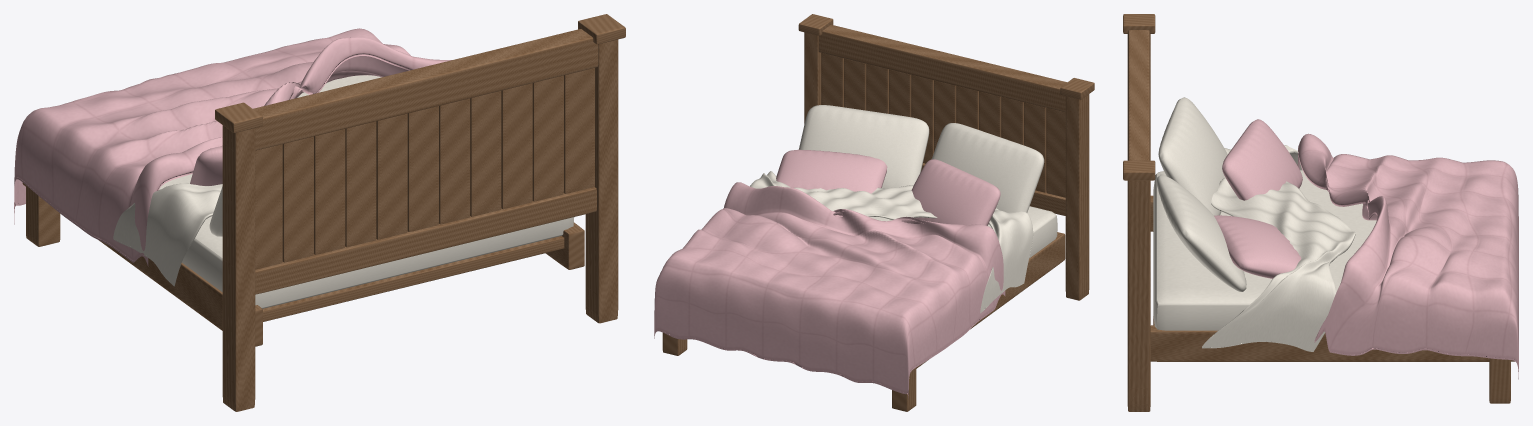
File: Bed_Messy.glb
3 renders of one model, left to right at view 1: azimuth 30°, elevation 25°; view 2: azimuth 150°, elevation 25°; view 3: azimuth 270°, elevation 25°, orthographic. The views are drawn at different scales.
Parts seen in each view (by area): view 1: Pink_Quilt, Head_Top_Rail, Head_Post_-1, Head_Lower_Rail, Head_Post_1, Mattress_and_Fitted_Sheet, Ivory_Folded_Blanket, Mattress_Support, Head_Plank_03, Head_Plank_04, Head_Plank_01, Head_Plank_07 (+13 smaller); view 2: Pink_Quilt, Head_Top_Rail, Ivory_Pillow_2, Ivory_Folded_Blanket, Ivory_Pillow_1, Head_Post_-1, Pink_Pillow_1, Pink_Pillow_2, Head_Plank_00, Side_Rail_-1, Head_Post_1, Head_Plank_01 (+15 smaller); view 3: Pink_Quilt, Ivory_Folded_Blanket, Mattress_and_Fitted_Sheet, Head_Post_1, Side_Rail_1, Ivory_Pillow_1, Ivory_Pillow_2, Pink_Pillow_1, Pink_Pillow_2, Head_Top_Rail, Foot_Leg_1, Head_Post_Cap_1 (+2 smaller).
Part boxes in pixels (<box>): Pink_Quilt: <box>14,28,451,266</box>; Head_Top_Rail: <box>253,29,598,150</box>; Head_Post_-1: <box>222,125,255,411</box>; Head_Lower_Rail: <box>255,187,596,294</box>; Head_Post_1: <box>585,39,618,323</box>; Mattress_and_Fitted_Sheet: <box>159,75,574,308</box>; Ivory_Folded_Blanket: <box>113,183,222,286</box>; Mattress_Support: <box>263,236,564,321</box>; Head_Plank_03: <box>345,121,376,247</box>; Head_Plank_04: <box>376,113,407,239</box>; Head_Plank_01: <box>282,136,313,262</box>; Head_Plank_07: <box>470,91,501,216</box>; Pink_Quilt: <box>654,182,1005,398</box>; Head_Top_Rail: <box>818,24,1066,112</box>; Ivory_Pillow_2: <box>799,105,929,188</box>; Ivory_Folded_Blanket: <box>750,171,1033,313</box>; Ivory_Pillow_1: <box>932,123,1044,224</box>; Head_Post_-1: <box>1065,94,1089,300</box>; Pink_Pillow_1: <box>911,159,1000,225</box>; Pink_Pillow_2: <box>776,149,887,193</box>; Head_Plank_00: <box>1046,108,1065,197</box>; Side_Rail_-1: <box>916,232,1065,368</box>; Head_Post_1: <box>804,32,821,123</box>; Head_Plank_01: <box>1024,102,1046,192</box>; Pink_Quilt: <box>1297,133,1518,379</box>; Ivory_Folded_Blanket: <box>1202,145,1355,351</box>; Mattress_and_Fitted_Sheet: <box>1153,170,1376,330</box>; Head_Post_1: <box>1127,180,1150,411</box>; Side_Rail_1: <box>1150,325,1514,361</box>; Ivory_Pillow_1: <box>1158,97,1227,215</box>; Ivory_Pillow_2: <box>1157,174,1246,291</box>; Pink_Pillow_1: <box>1222,119,1302,200</box>; Pink_Pillow_2: <box>1214,215,1301,278</box>; Head_Top_Rail: <box>1128,30,1149,160</box>; Foot_Leg_1: <box>1489,358,1510,403</box>; Head_Post_Cap_1: <box>1123,160,1155,180</box>.
Size of the model in its own units: 2.1 by 1.5 by 2.22.
Materials: 4 (4 with a texture image).
